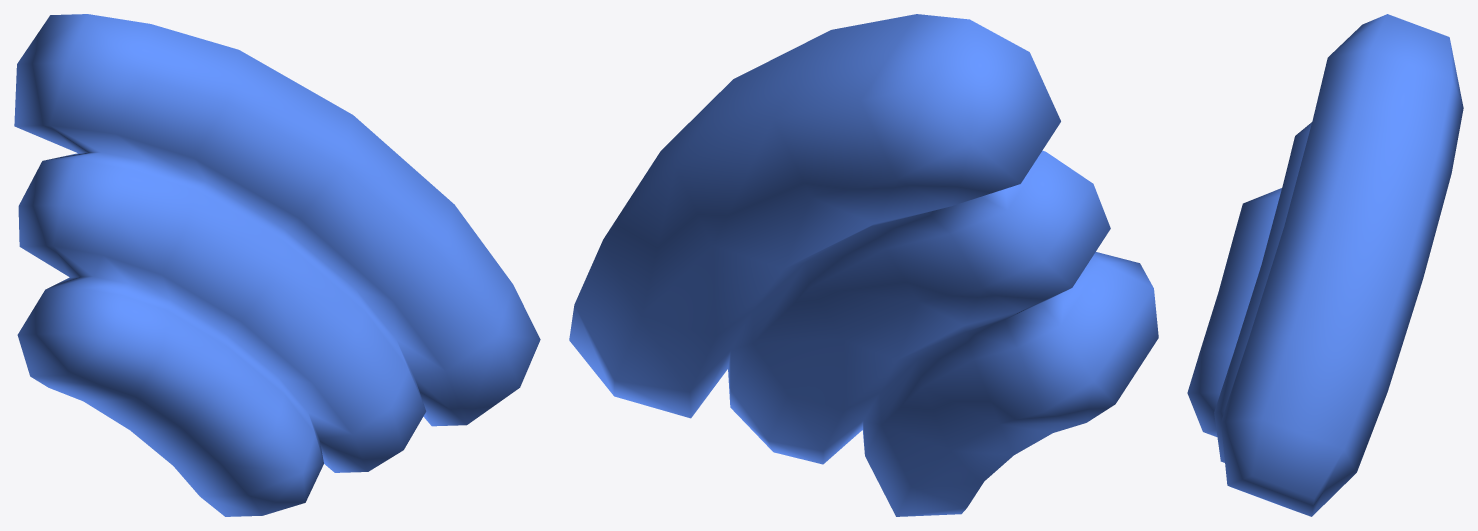
3 views of the same model, side by side, from view 1: azimuth 30°, elevation 25°; view 2: azimuth 150°, elevation 25°; view 3: azimuth 270°, elevation 25° (orthographic). The views are drawn at different scales.
Parts seen in each view (by area): view 1: Wi-fi.001; view 2: Wi-fi.001; view 3: Wi-fi.001.
Part boxes in pixels (<box>): Wi-fi.001: <box>14,14,540,516</box>; Wi-fi.001: <box>569,14,1158,516</box>; Wi-fi.001: <box>1187,14,1463,516</box>.
Bounding box in the file's own units: 2.86 × 2.8 × 1.73.
